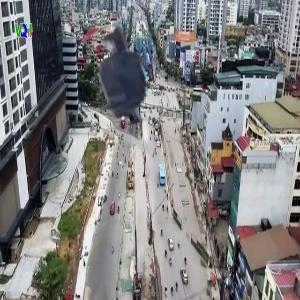drone: (46, 5, 201, 160)
